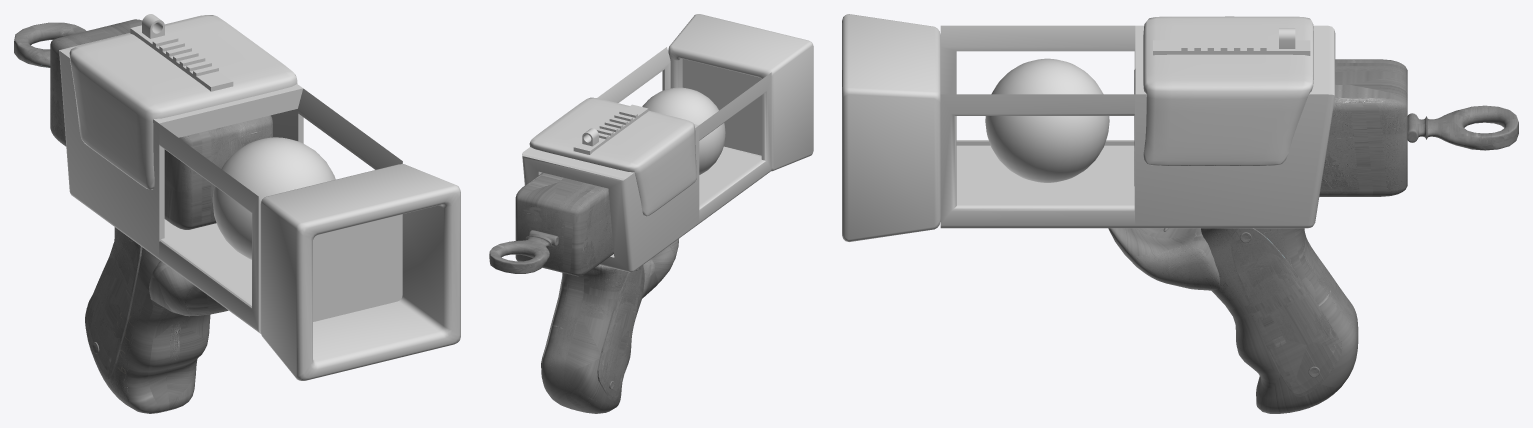
The model's file is shotgun design.fbx.
3 views of the same model, side by side, from view 1: azimuth 30°, elevation 25°; view 2: azimuth 150°, elevation 25°; view 3: azimuth 270°, elevation 25° (orthographic). The views are drawn at different scales.
Parts seen in each view (by area): view 1: Cube.002, Cube, Cube.006, handel hp.001, Cube.003, Cube.001, Sphere, Cube.004, Cube.007, handel hp.002, trekker hp; view 2: Cube, Cube.002, Cube.006, handel hp.001, Cube.001, Cube.003, Cube.004, Sphere, trekker hp, Cube.007, handel hp.002; view 3: Cube, Cube.006, Cube.002, Cube.001, handel hp.001, Sphere, Cube.004, handel hp.002, trekker hp, Cube.007.
Part boxes in pixels (<box>): Cube.002: <box>260,164,460,380</box>; Cube: <box>59,15,402,333</box>; Cube.006: <box>69,15,297,189</box>; handel hp.001: <box>86,227,210,413</box>; Cube.003: <box>313,214,402,321</box>; Cube.001: <box>50,19,272,229</box>; Sphere: <box>212,137,335,259</box>; Cube.004: <box>85,230,142,379</box>; Cube.007: <box>130,14,233,91</box>; handel hp.002: <box>149,261,228,316</box>; trekker hp: <box>14,22,85,67</box>; Cube: <box>522,47,771,272</box>; Cube.002: <box>668,14,813,171</box>; Cube.006: <box>529,97,696,216</box>; handel hp.001: <box>541,265,644,413</box>; Cube.001: <box>515,172,613,276</box>; Cube.003: <box>682,59,761,155</box>; Cube.004: <box>541,266,641,400</box>; Sphere: <box>642,87,725,174</box>; trekker hp: <box>489,230,558,273</box>; Cube.007: <box>573,104,648,154</box>; handel hp.002: <box>642,239,678,298</box>; Cube: <box>940,25,1335,228</box>; Cube.006: <box>1143,16,1313,165</box>; Cube.002: <box>842,14,940,241</box>; Cube.001: <box>1134,59,1407,196</box>; handel hp.001: <box>1201,228,1358,413</box>; Sphere: <box>985,58,1109,182</box>; Cube.004: <box>1230,228,1342,396</box>; handel hp.002: <box>1108,228,1220,290</box>; trekker hp: <box>1407,105,1518,150</box>; Cube.007: <box>1153,28,1310,55</box>.
Bounding box in the file's own units: 371 × 836 × 1362.
